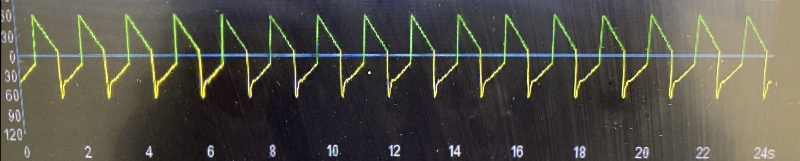peepi: (21, 5, 781, 104)
